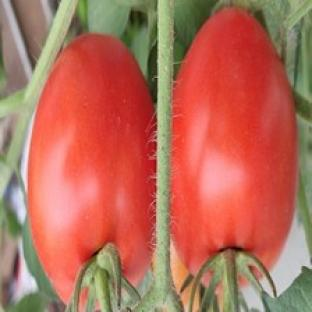Tomato: (28, 34, 155, 302), (172, 9, 298, 274), (170, 244, 189, 291)
